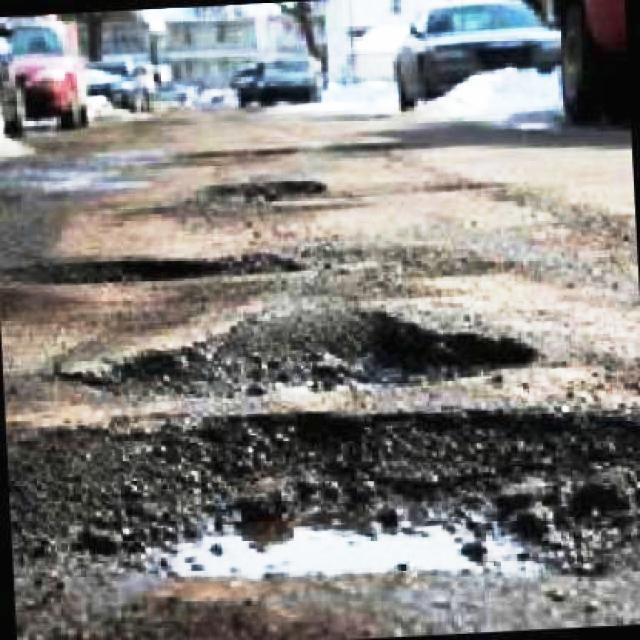pothole: (11, 404, 640, 634), (65, 298, 546, 411), (6, 252, 306, 291), (203, 174, 326, 212)
